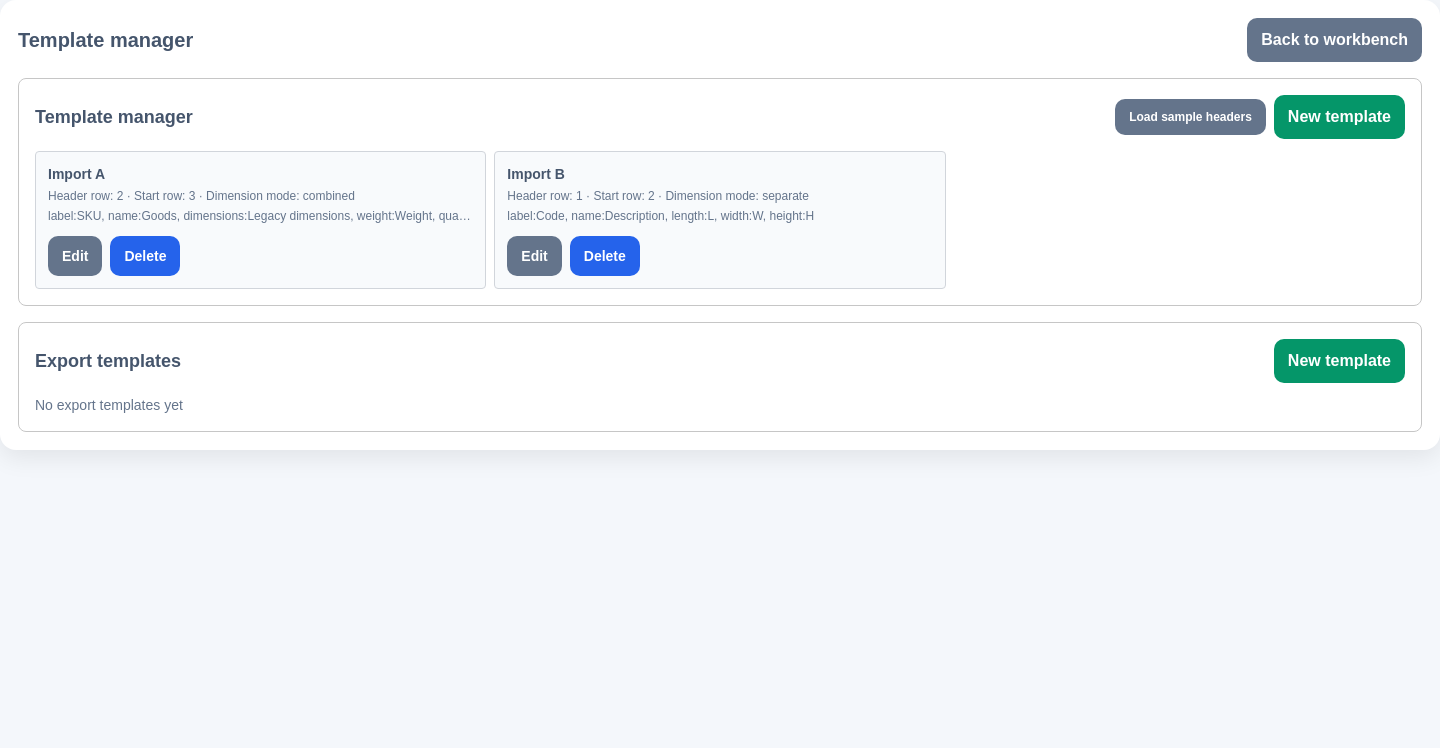
Scenario: TemplateManagerPage › does not clear a later import B edit when the pending save of import A completes
The image size is (1440, 748).
Click the button with test id "template-manager-edit-import-a".
click(75, 256)  # box [48, 236, 102, 276]
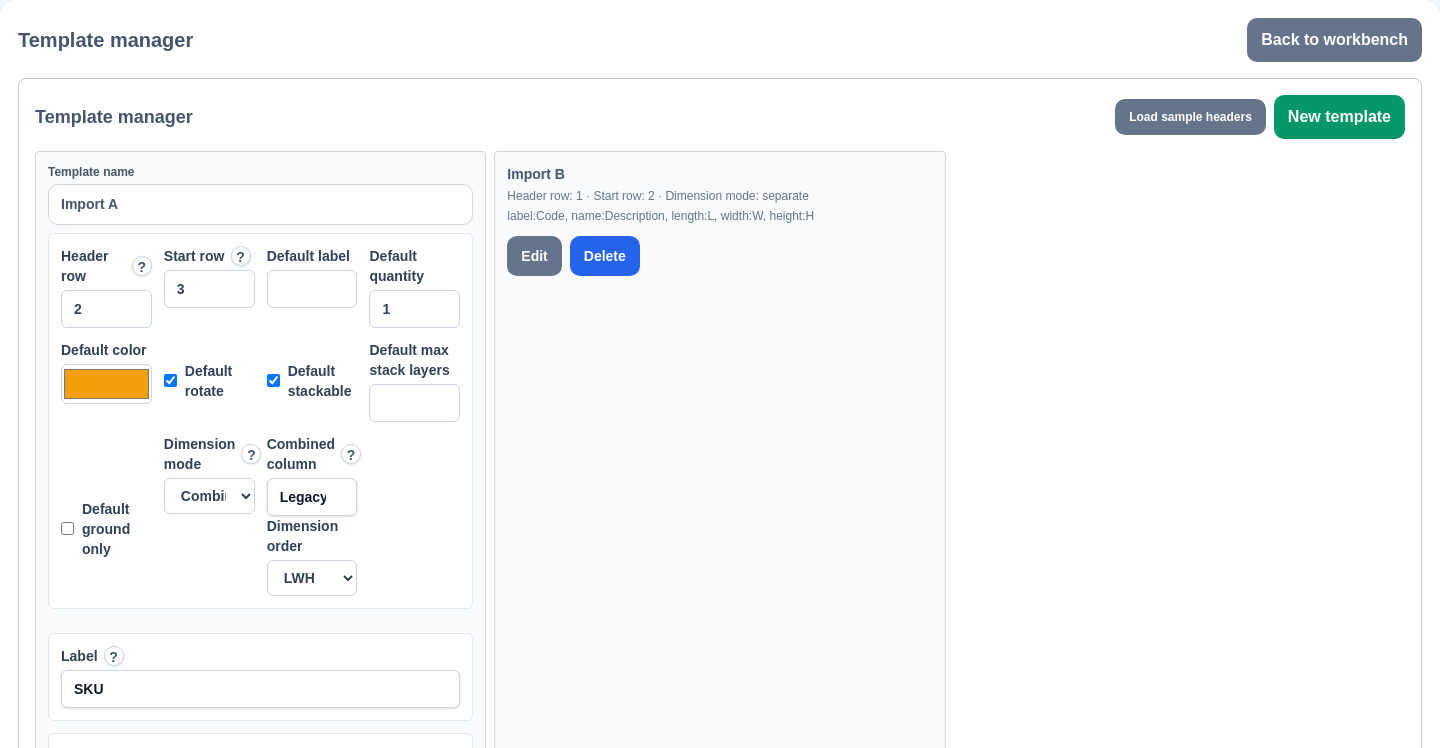
Replace the text in the field with test id "template-manager-name-import-a" with "Saved Import A" at (261, 204), box [48, 184, 473, 225]
(page scrolled)
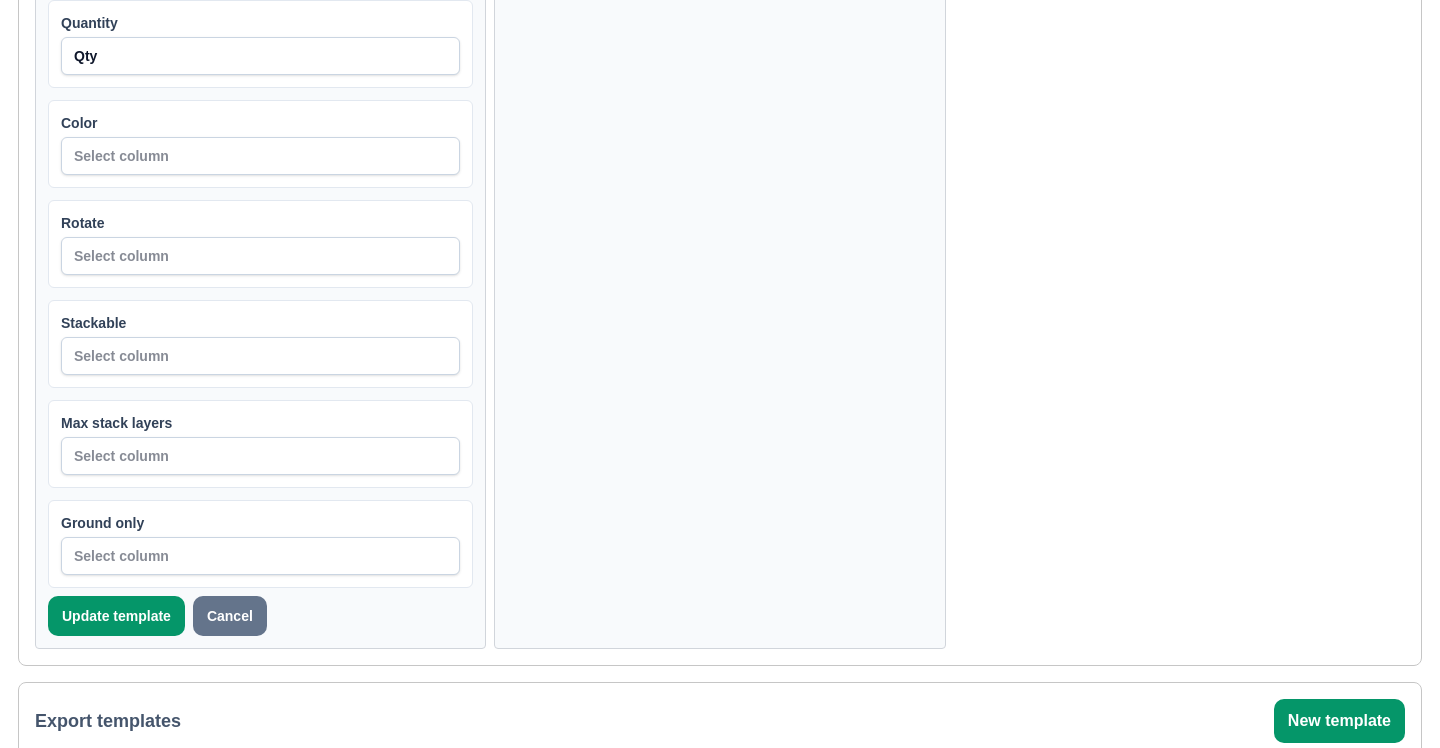
Click the button with test id "template-manager-save-import-a".
click(116, 616)  # box [48, 596, 185, 636]
(page scrolled)
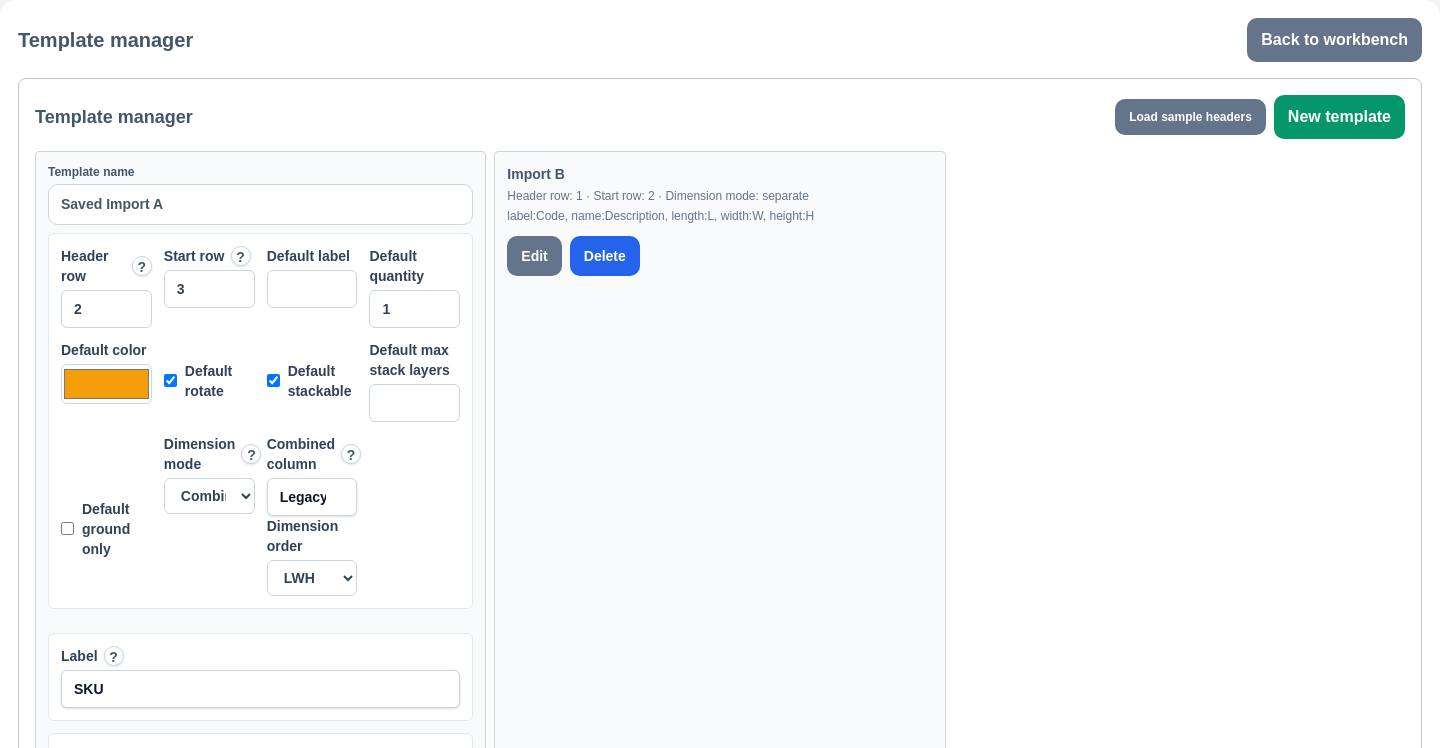
Click the button with test id "template-manager-edit-import-b".
click(535, 256)  # box [507, 236, 562, 276]
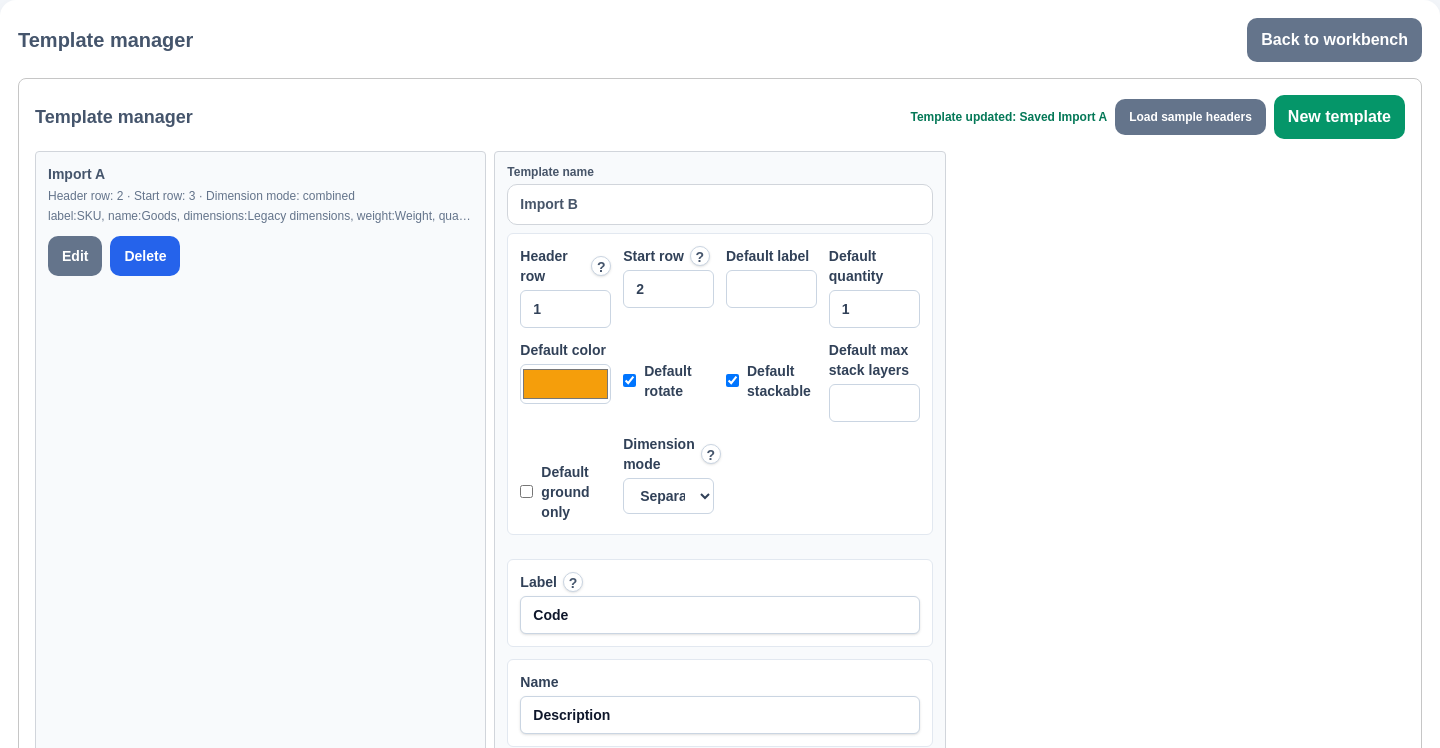
expect the field with test id "template-manager-name-import-b" holds "Import B": met, box [507, 184, 933, 225]
expect the field with test id "template-manager-name-import-a" is gone: met
